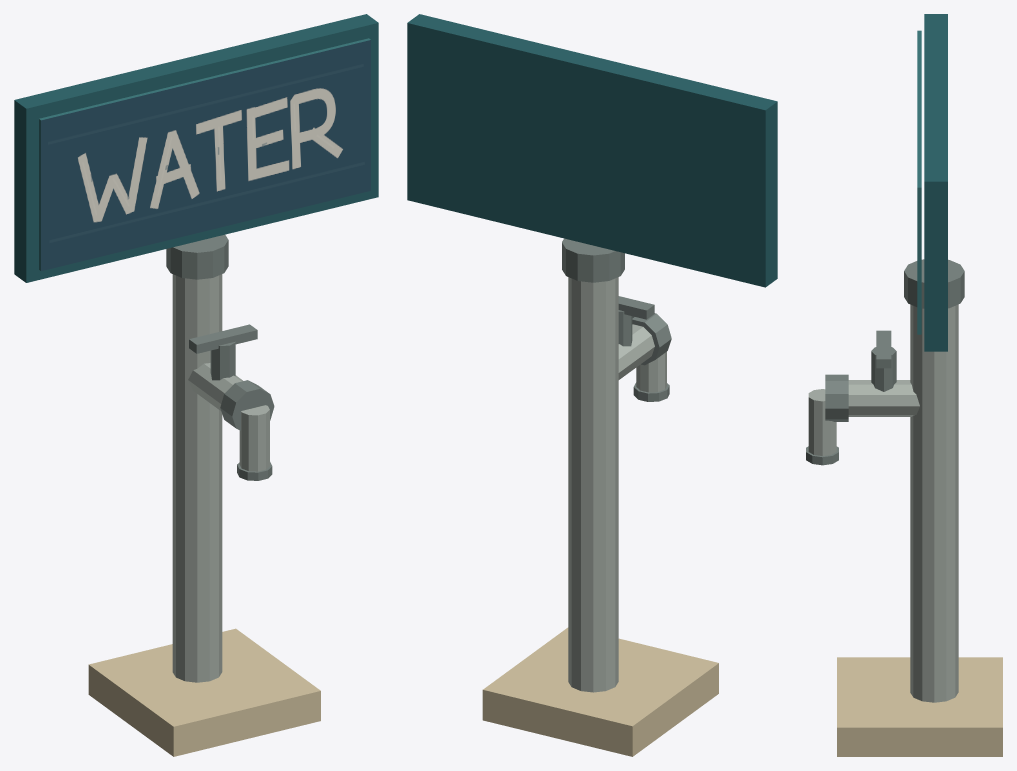
File: lwf_free_water_point_v4.glb
3 views of the same model, side by side, from view 1: azimuth 30°, elevation 25°; view 2: azimuth 150°, elevation 25°; view 3: azimuth 270°, elevation 25° (orthographic). The views are drawn at different scales.
Parts seen in each view (by area): view 1: LWF_FreeWaterV4_SignBoard, LWF_FreeWaterV4_OneTapStandpipe, LWF_FreeWaterV4_ConcreteFoot; view 2: LWF_FreeWaterV4_SignBoard, LWF_FreeWaterV4_OneTapStandpipe, LWF_FreeWaterV4_ConcreteFoot; view 3: LWF_FreeWaterV4_OneTapStandpipe, LWF_FreeWaterV4_ConcreteFoot, LWF_FreeWaterV4_SignBoard.
Boxes of the visible parts, box(x1,y1,x2,y2) form: LWF_FreeWaterV4_SignBoard: box(14, 14, 378, 282); LWF_FreeWaterV4_OneTapStandpipe: box(166, 234, 274, 682); LWF_FreeWaterV4_ConcreteFoot: box(88, 628, 320, 756); LWF_FreeWaterV4_SignBoard: box(407, 14, 777, 287); LWF_FreeWaterV4_OneTapStandpipe: box(562, 238, 671, 692); LWF_FreeWaterV4_ConcreteFoot: box(482, 627, 718, 756); LWF_FreeWaterV4_OneTapStandpipe: box(806, 259, 964, 702); LWF_FreeWaterV4_ConcreteFoot: box(837, 657, 1002, 756); LWF_FreeWaterV4_SignBoard: box(917, 14, 947, 351).
Bounding box in the file's own units: 1.1 × 1.91 × 0.5457.
Materials: 2 (2 with a texture image).
